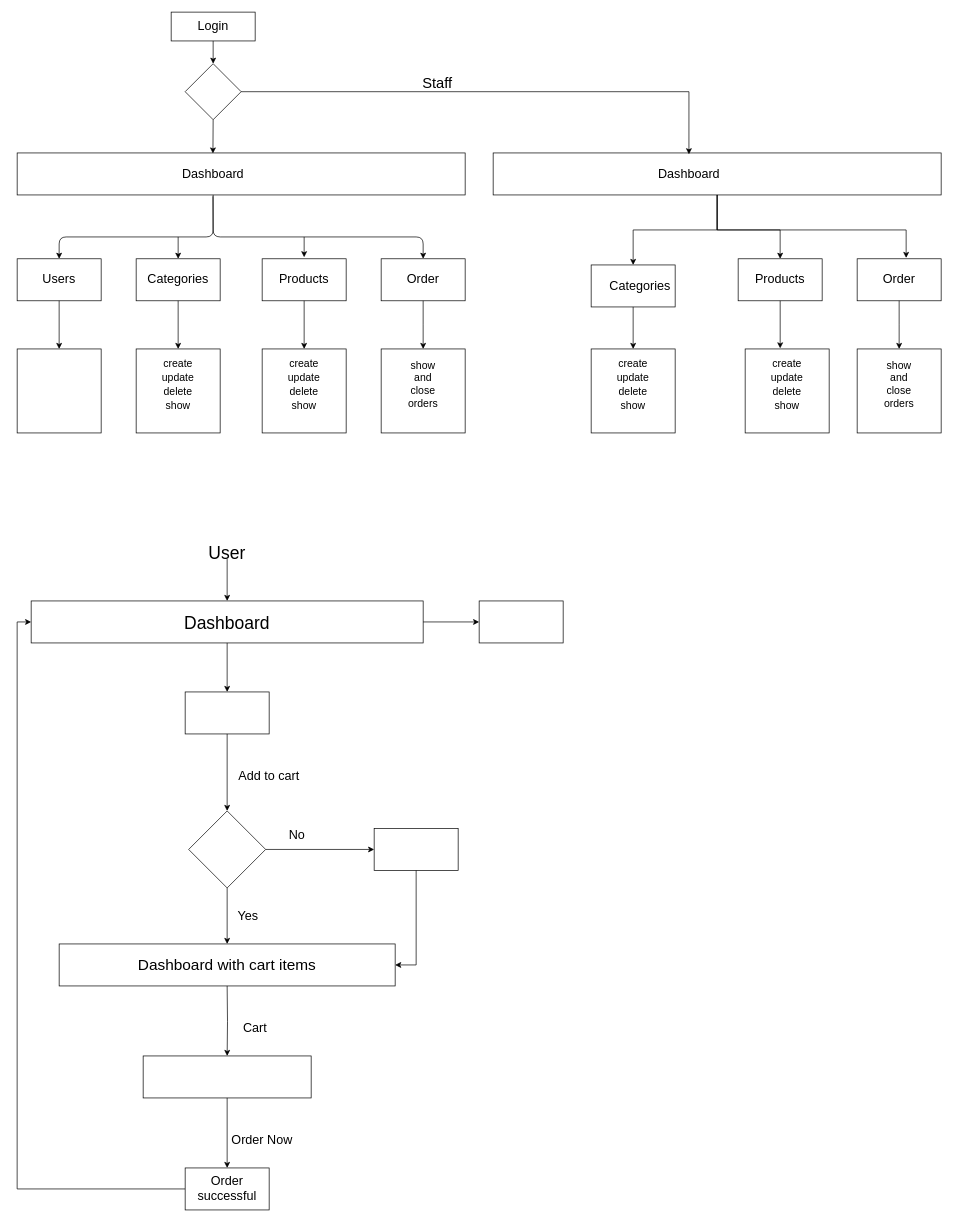
This 953x1223 diagram has some shape labels left out. Here are the shapes that lost their labels. From the top down, the box of each, then its label:
(184, 63, 241, 120): Admin
(16, 348, 101, 433): give permission to staffs
(478, 600, 563, 643): order history
(184, 691, 269, 734): Product detail
(188, 810, 266, 888): Login?
(373, 828, 458, 870): Login or Register
(142, 1055, 311, 1098): Register payment methods and address
